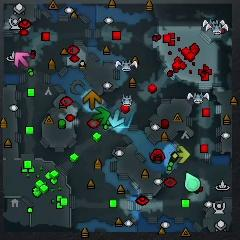p2: (185, 172, 200, 191)
x1: (14, 52, 30, 68)
x2: (174, 145, 191, 163)
x3: (108, 109, 125, 127)
x4: (92, 107, 110, 124)
x5: (84, 90, 101, 109)
